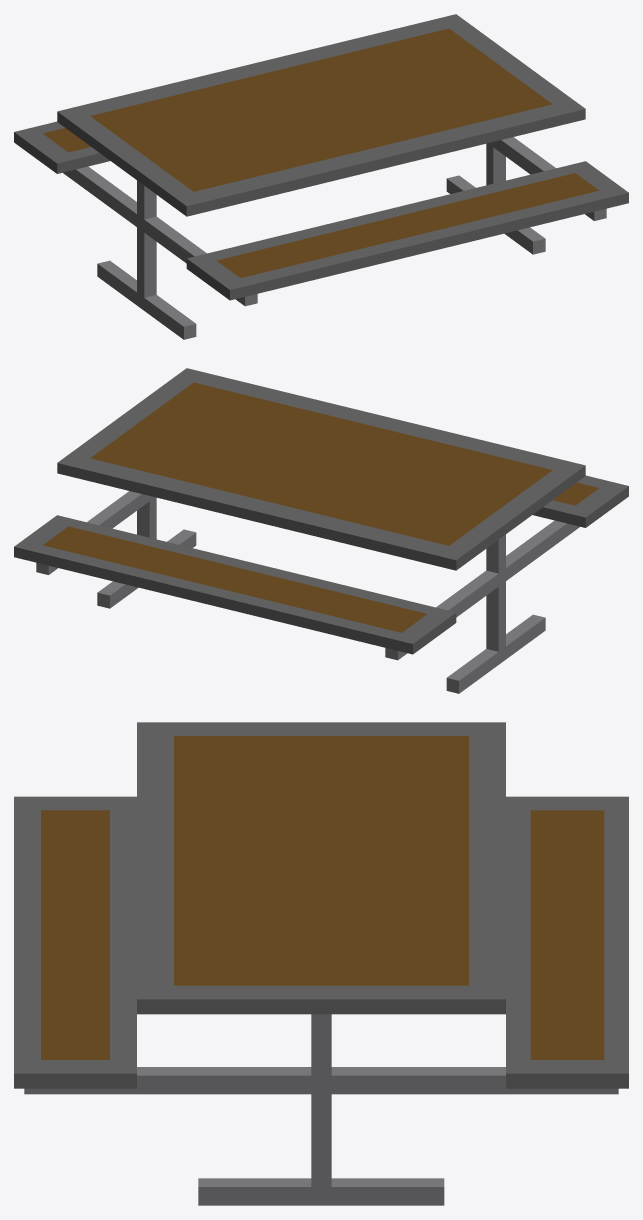
The model's file is Bench.fbx.
3 views of the same model, one above another, from view 1: azimuth 30°, elevation 25°; view 2: azimuth 150°, elevation 25°; view 3: azimuth 270°, elevation 25° (orthographic). The views are drawn at different scales.
Visible parts, largest first — view 1: Bench; view 2: Bench; view 3: Bench.
Boxes of the visible parts, <box> form: Bench: <box>14,14,628,339</box>; Bench: <box>14,368,628,693</box>; Bench: <box>14,722,628,1205</box>.
Bounding box in the file's own units: 1600 × 590 × 1500.
